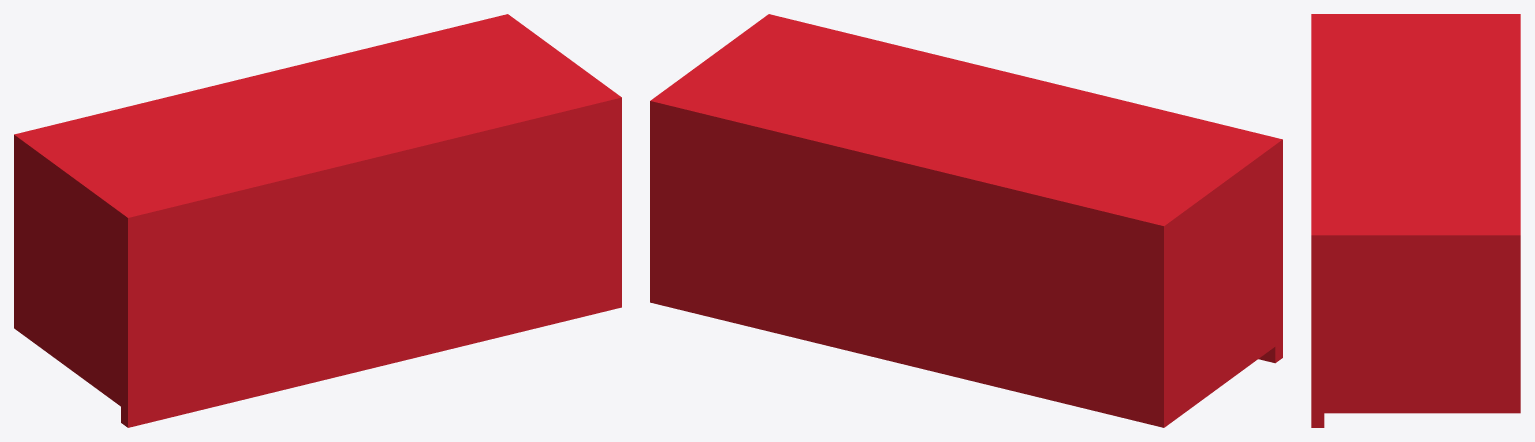
File: tinker.obj
The picture shows the model from 3 angles, left to right: view 1: azimuth 30°, elevation 25°; view 2: azimuth 150°, elevation 25°; view 3: azimuth 270°, elevation 25°; orthographic projection. The views are drawn at different scales.
Visible parts, largest first — view 1: obj_1, obj_0; view 2: obj_0, obj_1; view 3: obj_0, obj_1.
Part boxes in pixels (x1=…): obj_1: x1=121, y1=92, x2=621, y2=427; obj_0: x1=14, y1=14, x2=614, y2=406; obj_0: x1=650, y1=19, x2=1275, y2=427; obj_1: x1=761, y1=14, x2=1282, y2=363; obj_0: x1=1324, y1=14, x2=1520, y2=413; obj_1: x1=1311, y1=14, x2=1324, y2=427.
Size of the model in its own units: 160 by 65 by 64.
